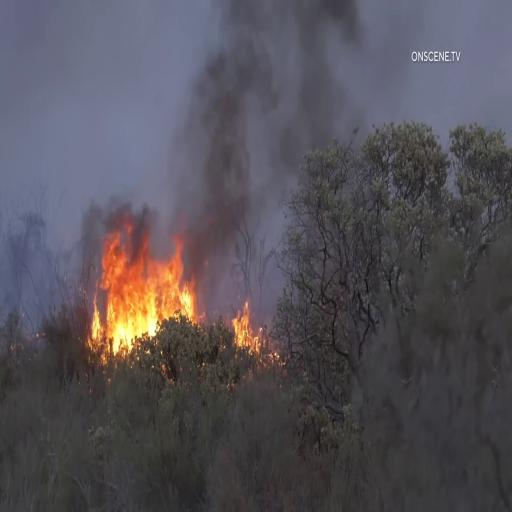fire: (77, 210, 193, 374)
smoke: (180, 0, 328, 209)
